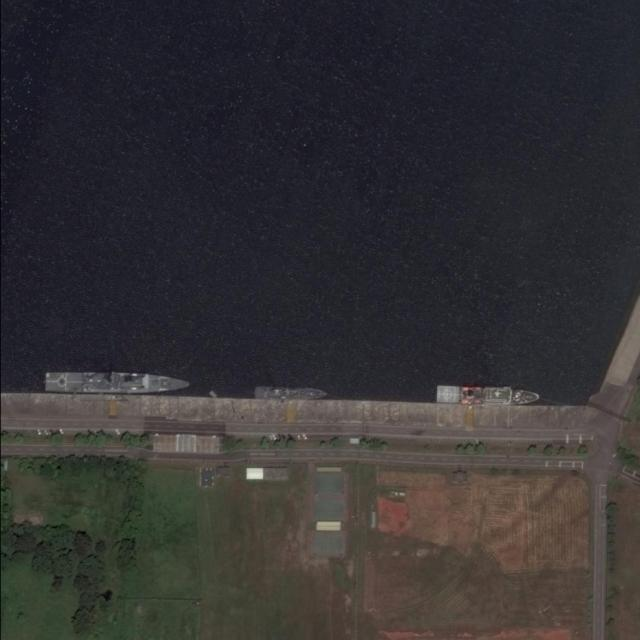Commander: (434, 382, 541, 408)
Other Warship: (45, 371, 190, 394), (254, 388, 328, 399)
